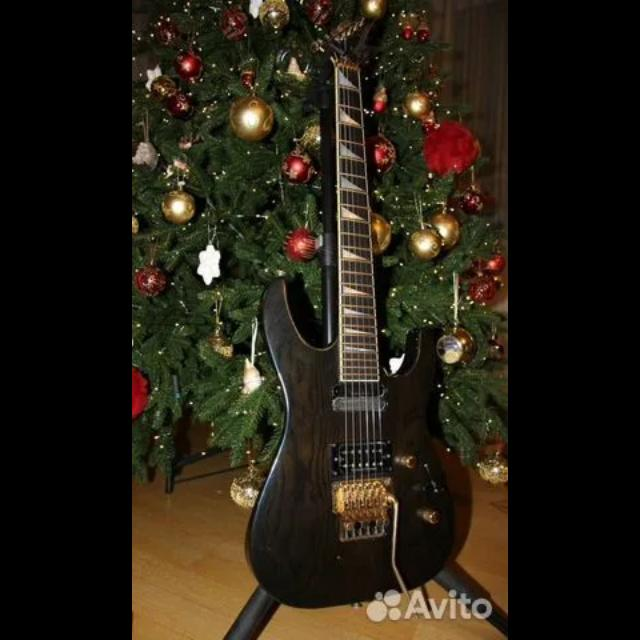Electric-Guitar: (246, 11, 454, 608)
